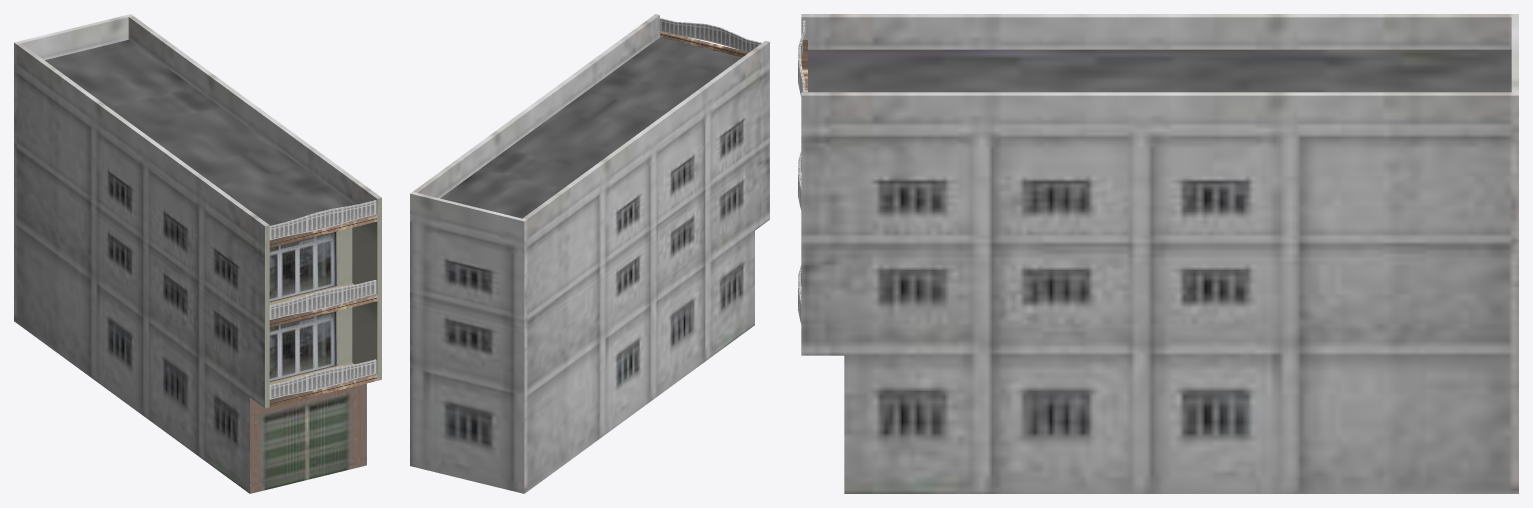
The picture shows the model from 3 angles, left to right: view 1: azimuth 30°, elevation 25°; view 2: azimuth 150°, elevation 25°; view 3: azimuth 270°, elevation 25°; orthographic projection. The views are drawn at different scales.
Visible parts, largest first — view 1: 5da93fbfc66a21164047c6b1.001; view 2: 5da93fbfc66a21164047c6b1.001; view 3: 5da93fbfc66a21164047c6b1.001.
Part boxes in pixels (x1,y1,x2,y2): 5da93fbfc66a21164047c6b1.001: (14, 14, 381, 493); 5da93fbfc66a21164047c6b1.001: (410, 14, 769, 493); 5da93fbfc66a21164047c6b1.001: (798, 14, 1518, 493).
Bounding box in the file's own units: 5.38 × 12.31 × 20.09.
Materials: 1 (1 with a texture image).
